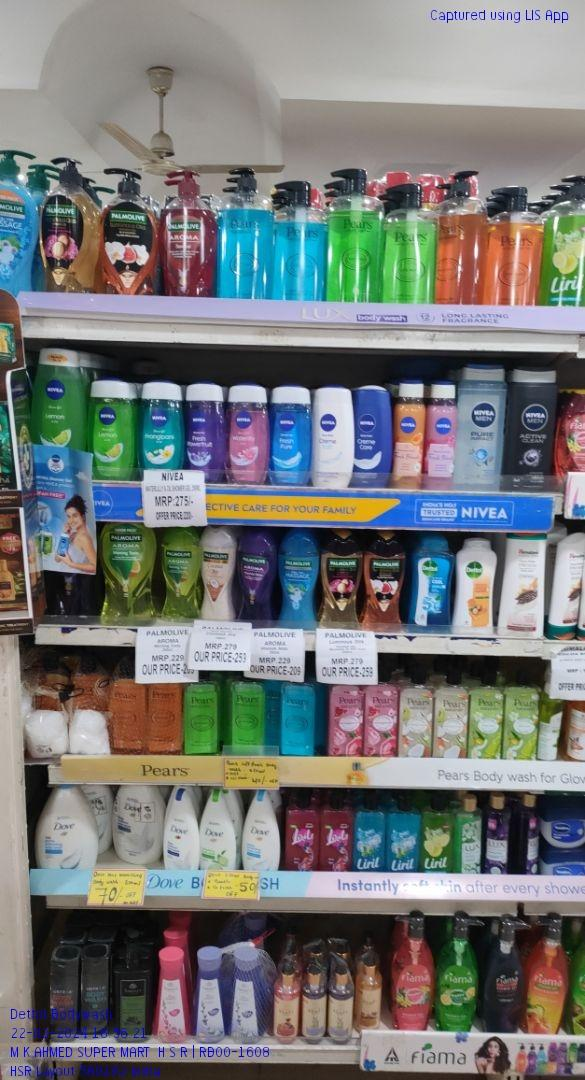Dettol_Bodywash_Cool: (410, 531, 453, 633)
Dettol_Nourish_Body_Wash_250ML: (457, 535, 497, 630)
Dove_Deep_Moisture_Body_Wash_250ML: (166, 787, 200, 870)
Dove_Gentle_Exfoliating_Body_Wash_250ML: (241, 792, 280, 873)
Dove_Refreshing_Body_Wash_250ML: (201, 788, 237, 870)
Liril_Cooling_Mint_Body_Wash_250ML: (388, 795, 421, 871), (355, 796, 385, 870)
Liril_Lime_and_Tea_Tree_Oil_Body_Wash_250ML: (423, 797, 452, 873)
Lux_Black_Orchid_Scent_and_Juniper_Oil_Body_Wash_245ML: (516, 792, 539, 875), (485, 792, 509, 870)
Lux_Body_Wash_Skin_Detox_Freesia_Scent_and_Alove_Vera_245ML: (456, 795, 481, 872)
Nivea_Creme_Care_Body_Wash_250ML: (352, 384, 390, 488)
Nivea_Creme_Soft_Body_Wash_250ML: (311, 386, 351, 490)
Nivea_Shower_Gel_Frangipani_and_Oil_250ML: (140, 383, 182, 471)
Nivea_Shower_Gel_Fresh_Powerfruit_250ML: (185, 384, 225, 485)
Nivea_Shower_Gel_Lemon_and_Oil_250ML: (34, 346, 84, 448), (87, 378, 134, 481)
Nivea_Shower_Gel_Waterlily_and_Oil_250ML: (227, 382, 268, 484)
Palmolive_Aroma_Moments_Feel_The_Massage_Shower_Gel_250ML: (278, 527, 317, 628)
Palmolive_Aroma_Morning_Tonic_Shower_Gel_250ML: (160, 526, 200, 618)
Palmolive_Aroma_Relax_250ML: (241, 528, 276, 626)
Palmolive_Coconut_Joy_Exfoliating_Body_Wash_250ML: (201, 525, 237, 622)
Palmolive_Luminous_Oils_Invigorating_Macadamia_Oil_With_Peony_250ML: (319, 528, 358, 626)
Palmolive_Luminous_Oils_With_White_Orchid_Shower_Gel_250ML: (360, 529, 406, 632)
Pears_Naturale_Aloe_Vera_Body_Wash_250ML: (502, 669, 538, 759), (468, 675, 501, 758)
Pears_Pure_Glycerin_and_Lemon_Flower_Extracts_Body_Wash_250ML: (183, 675, 220, 755), (232, 676, 266, 756)
Pears_Pure_Glycerin_and_Mint_Extracts_Body_Wash_250ML: (279, 678, 317, 756)
